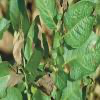Potato leaf early blight: (62, 34, 99, 79), (22, 14, 43, 74), (62, 75, 95, 99), (35, 0, 60, 29), (34, 72, 57, 99), (11, 25, 24, 71)
